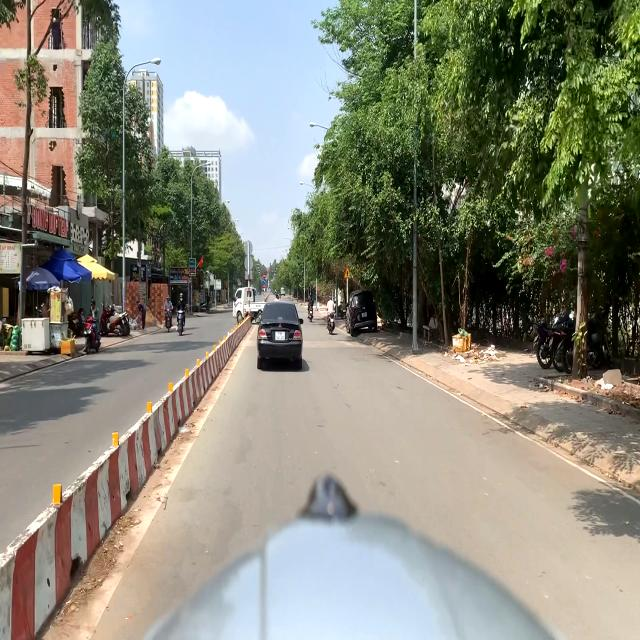P.102: (263, 272, 266, 278)
R.302a: (262, 279, 266, 284)
W.207a: (344, 267, 351, 279)
